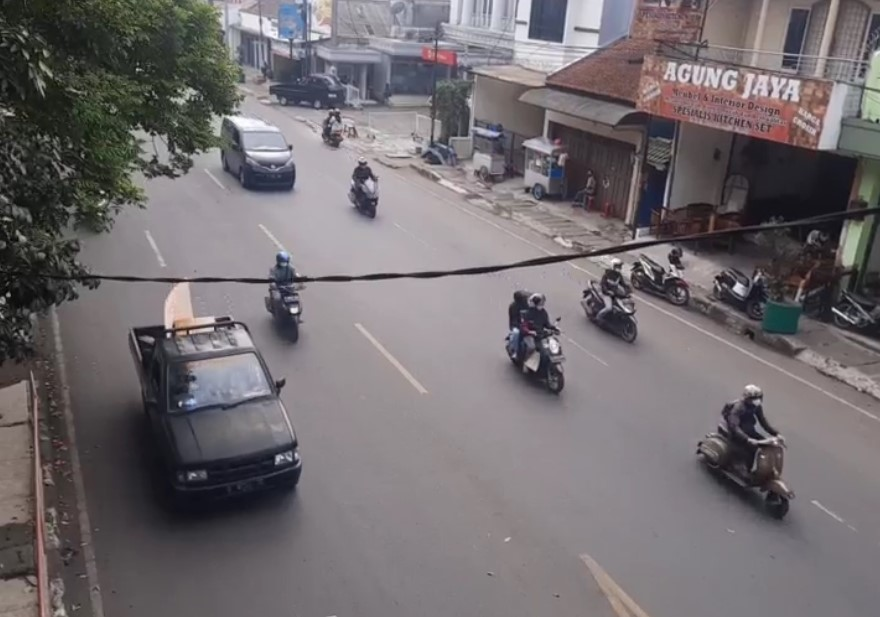mobil: (128, 301, 304, 497), (215, 116, 297, 191)
motor: (706, 390, 784, 515), (505, 292, 568, 397), (260, 246, 314, 339), (583, 261, 638, 350), (344, 158, 383, 222)
